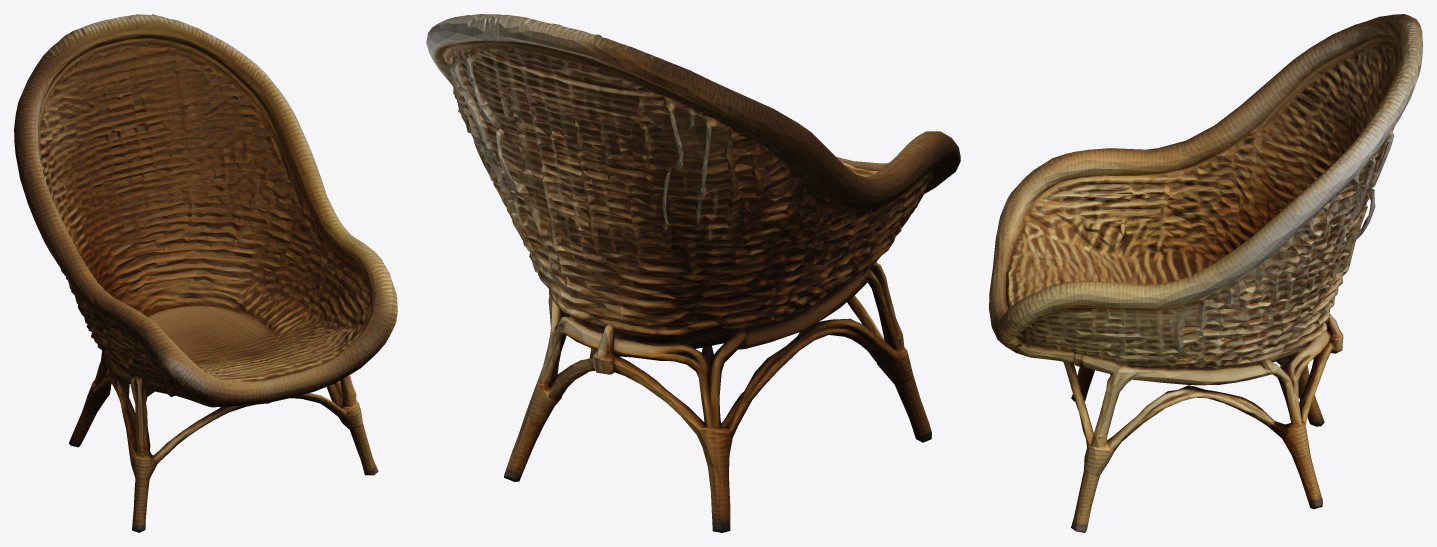
The model's file is handwoven-wicker-chair-rustic.jpeg.glb.
3 views of the same model, side by side, from view 1: azimuth 30°, elevation 25°; view 2: azimuth 150°, elevation 25°; view 3: azimuth 270°, elevation 25° (orthographic). The views are drawn at different scales.
Visible parts, largest first — view 1: world; view 2: world; view 3: world.
Part boxes in pixels (x1,y1,x2,y2): world: (14, 14, 397, 532); world: (426, 14, 960, 532); world: (989, 14, 1422, 532).
Size of the model in its own units: 0.767 by 1 by 0.917.
Materials: 1 (1 with a texture image).
